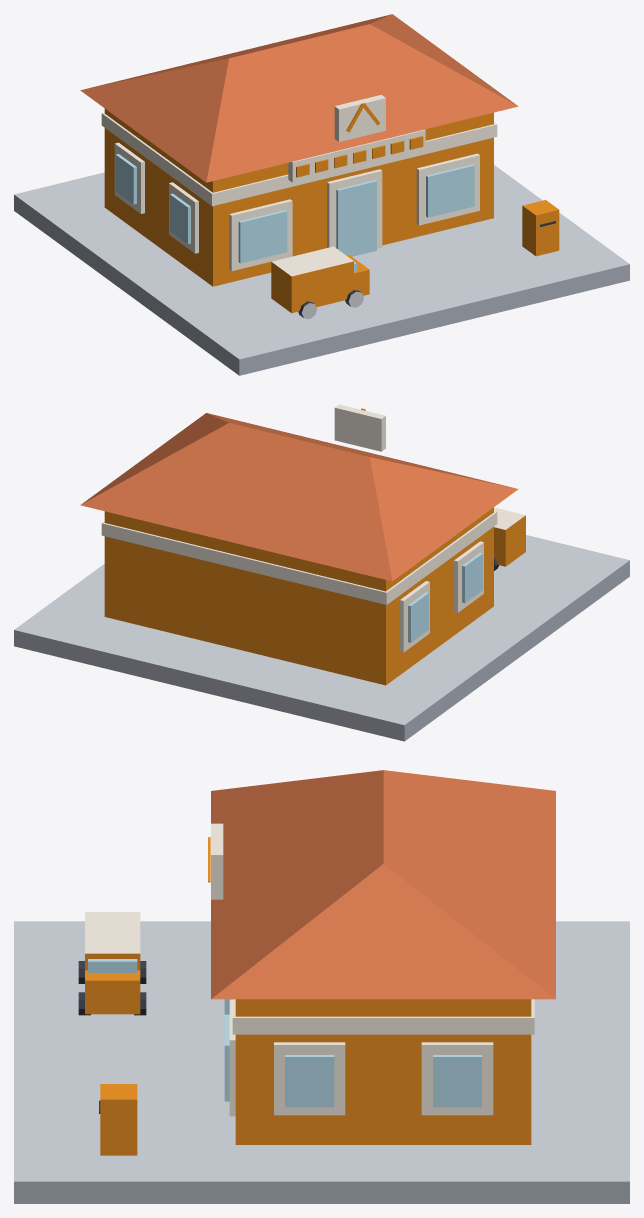
The model's file is public_post_office.glb.
The picture shows the model from 3 angles, top to bottom: view 1: azimuth 30°, elevation 25°; view 2: azimuth 150°, elevation 25°; view 3: azimuth 270°, elevation 25°; orthographic projection. The views are drawn at different scales.
Visible parts, largest first — view 1: public_post_office; view 2: public_post_office; view 3: public_post_office.
Boxes of the visible parts, x1,y1,x2,y2 form: public_post_office: (14, 14, 629, 375); public_post_office: (14, 404, 629, 741); public_post_office: (14, 770, 629, 1203).
Size of the model in its own units: 1 by 0.46 by 1.
